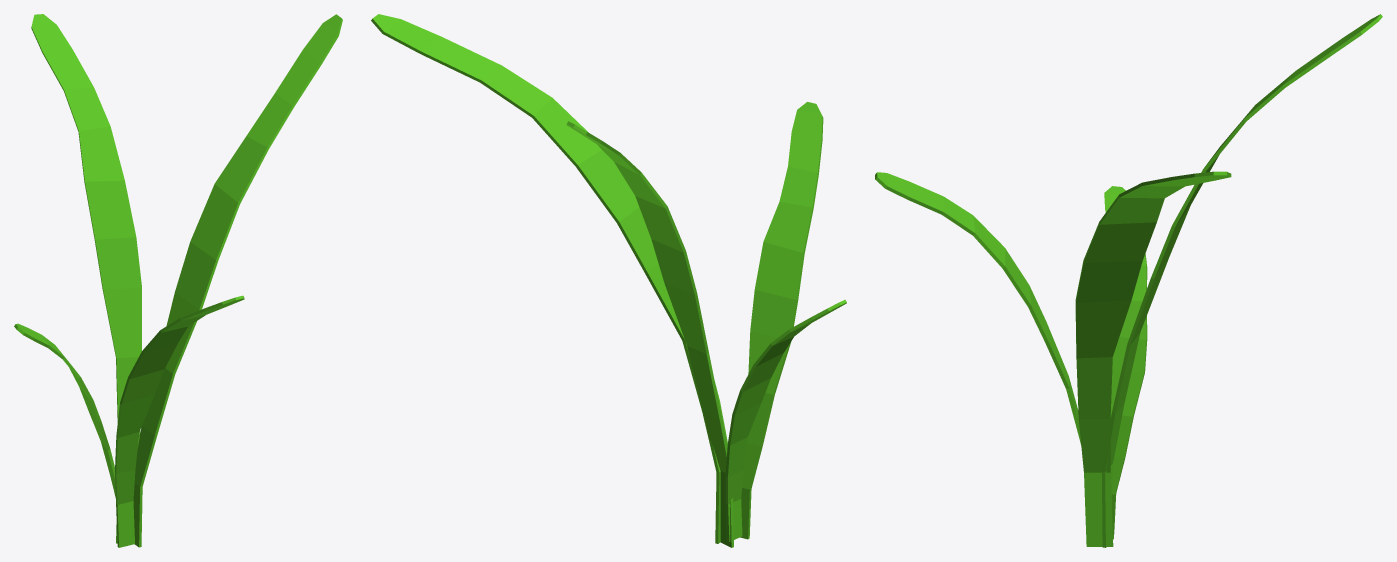
Rendered from barley1.fbx.
3 renders of one model, left to right at view 1: azimuth 30°, elevation 25°; view 2: azimuth 150°, elevation 25°; view 3: azimuth 270°, elevation 25°, orthographic. The views are drawn at different scales.
Visible parts, largest first — view 1: barley stage 1; view 2: barley stage 1; view 3: barley stage 1.
Part boxes in pixels (bbox=[...]): barley stage 1: bbox=[14, 14, 342, 547]; barley stage 1: bbox=[371, 14, 846, 547]; barley stage 1: bbox=[875, 14, 1382, 547].
Size of the model in its own units: 14.51 by 16.65 by 14.16.
